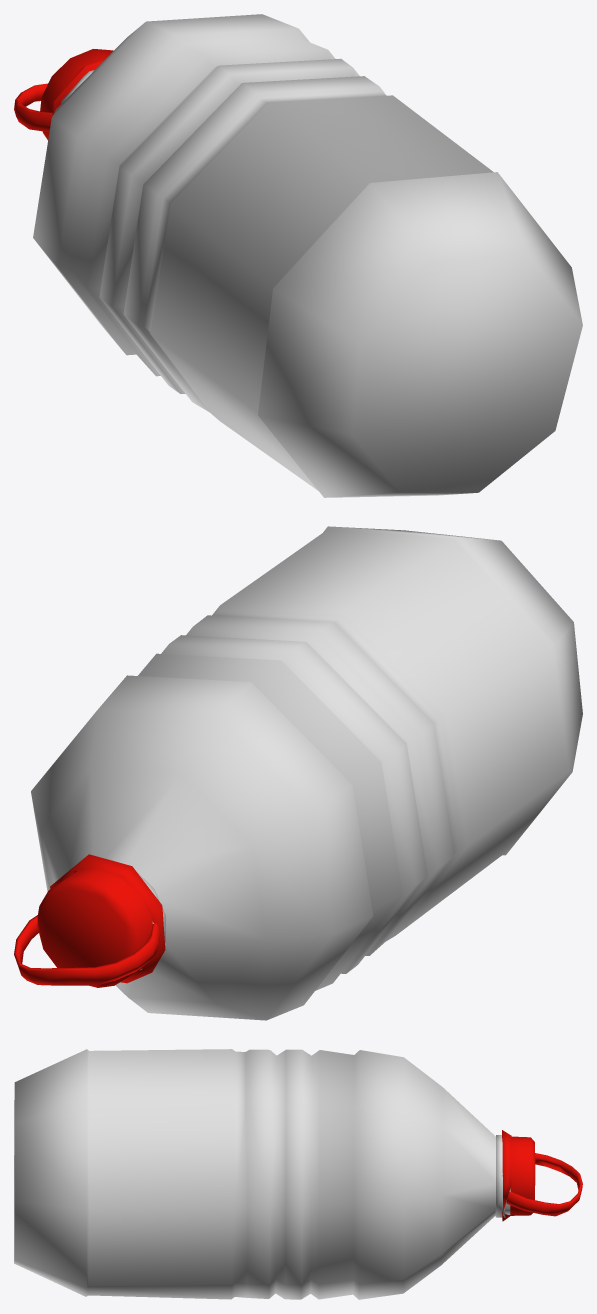
Rendered from trash2-2.fbx.
3 views of the same model, one above another, from view 1: azimuth 30°, elevation 25°; view 2: azimuth 150°, elevation 25°; view 3: azimuth 270°, elevation 25° (orthographic). The views are drawn at different scales.
Parts seen in each view (by area): view 1: trash.001; view 2: trash.001; view 3: trash.001.
Boxes of the visible parts, bbox=[...] form: trash.001: bbox=[14, 14, 582, 497]; trash.001: bbox=[14, 526, 582, 1020]; trash.001: bbox=[14, 1049, 582, 1299].
Bounding box in the file's own units: 27.09 × 27.02 × 61.28.
